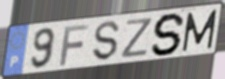9: (29, 26, 56, 70)
F: (58, 22, 92, 67)
M: (180, 8, 219, 54)
S: (150, 12, 188, 57), (92, 20, 121, 63)
Z: (120, 16, 155, 60)
